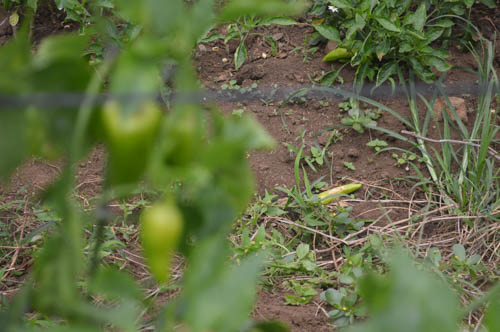ChiliPepper: (100, 104, 160, 195), (142, 207, 183, 286)
